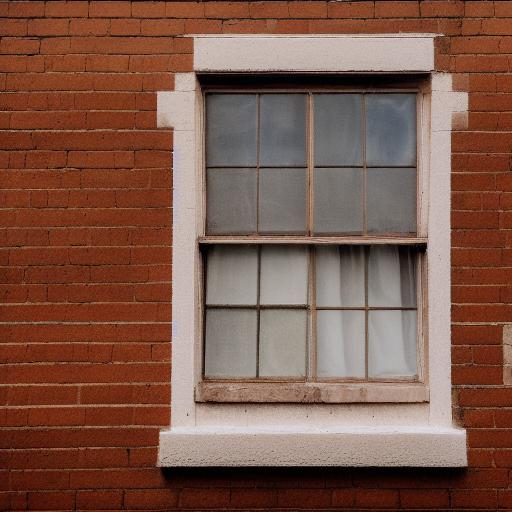Window: (157, 28, 470, 471)
